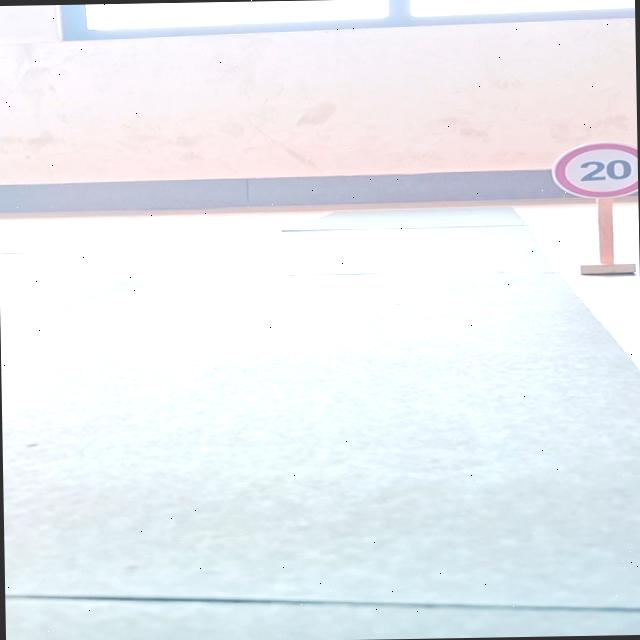Speed20: (549, 138, 638, 204)
